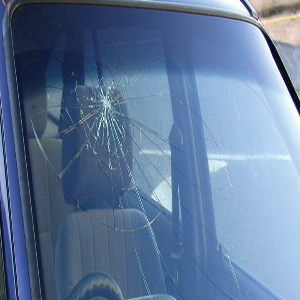bonnet: (146, 85, 297, 177)
